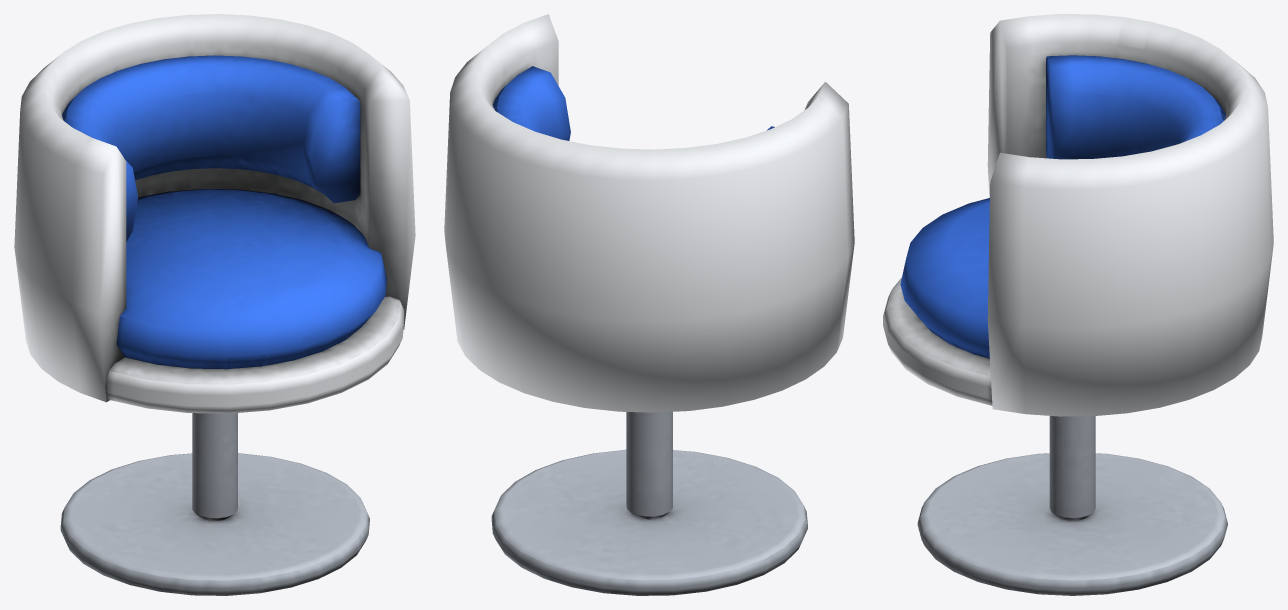
Rendered from conference_chair.glb.
3 renders of one model, left to right at view 1: azimuth 30°, elevation 25°; view 2: azimuth 150°, elevation 25°; view 3: azimuth 270°, elevation 25°, orthographic. The views are drawn at different scales.
Parts seen in each view (by area): view 1: conference_chair; view 2: conference_chair; view 3: conference_chair.
Part boxes in pixels (x1,y1,x2,y2): conference_chair: (14, 14, 415, 595); conference_chair: (444, 14, 854, 595); conference_chair: (883, 14, 1273, 595).
Size of the model in its own units: 0.6982 by 0.86 by 0.68.
3 materials, 3 textured.
